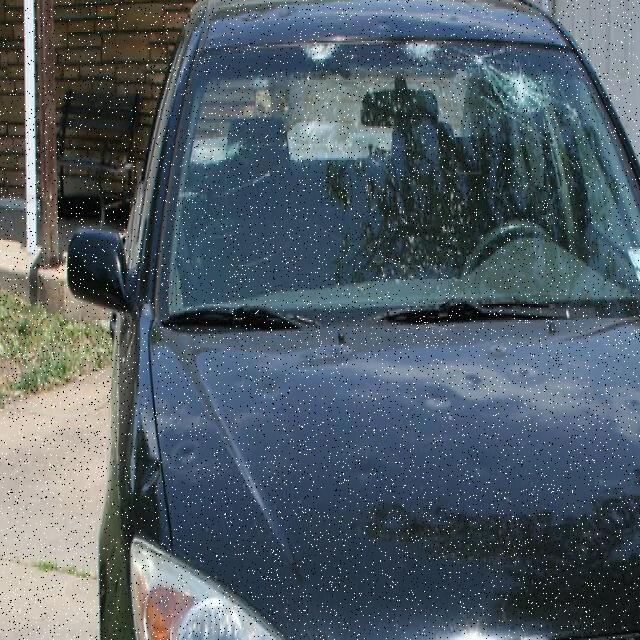Front-Windscreen-Damage: (156, 25, 624, 334)
bonnet-dent: (151, 333, 639, 568)
